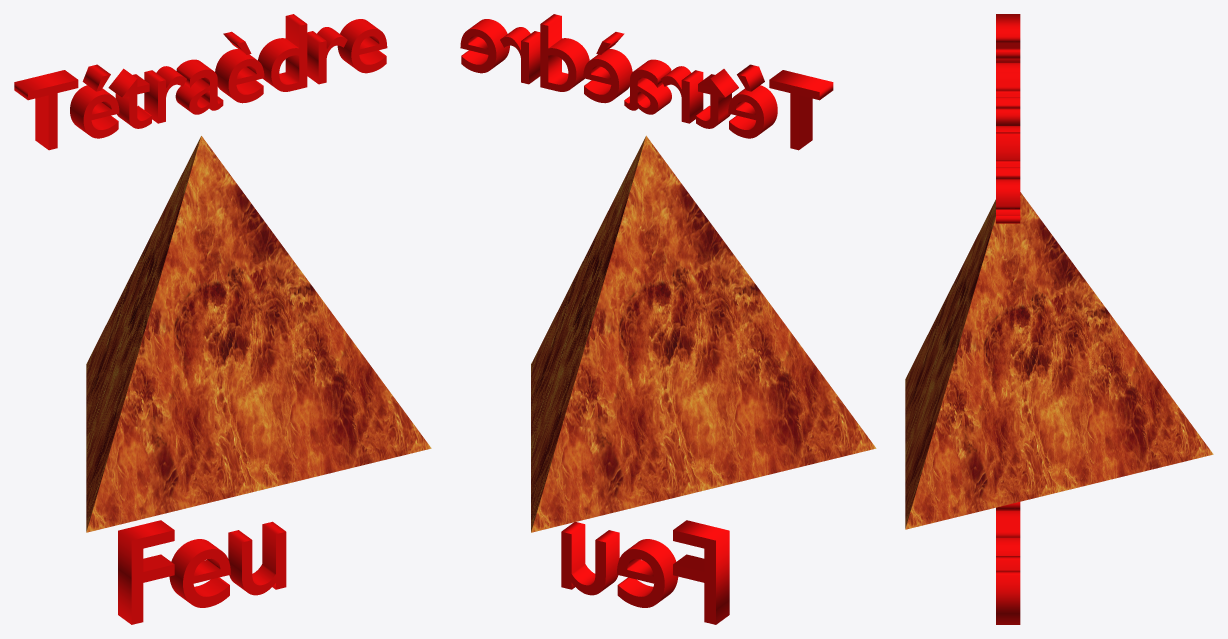
File: Tetrahedron.glb
3 renders of one model, left to right at view 1: azimuth 30°, elevation 25°; view 2: azimuth 150°, elevation 25°; view 3: azimuth 270°, elevation 25°, orthographic. The views are drawn at different scales.
Parts seen in each view (by area): view 1: Cone.001, Text.005, Text; view 2: Cone.001, Text.005, Text; view 3: Cone.001, Text.005, Text.
Boxes of the visible parts, x1,y1,x2,y2 form: Cone.001: [86, 136, 431, 532]; Text.005: [14, 14, 387, 150]; Text: [118, 520, 286, 624]; Cone.001: [531, 135, 876, 532]; Text.005: [460, 14, 833, 150]; Text: [561, 520, 729, 624]; Cone.001: [905, 192, 1213, 529]; Text.005: [996, 14, 1020, 223]; Text: [996, 502, 1020, 624].
Size of the model in its own units: 3.04 by 4.52 by 2.53.
2 materials, 1 textured.
